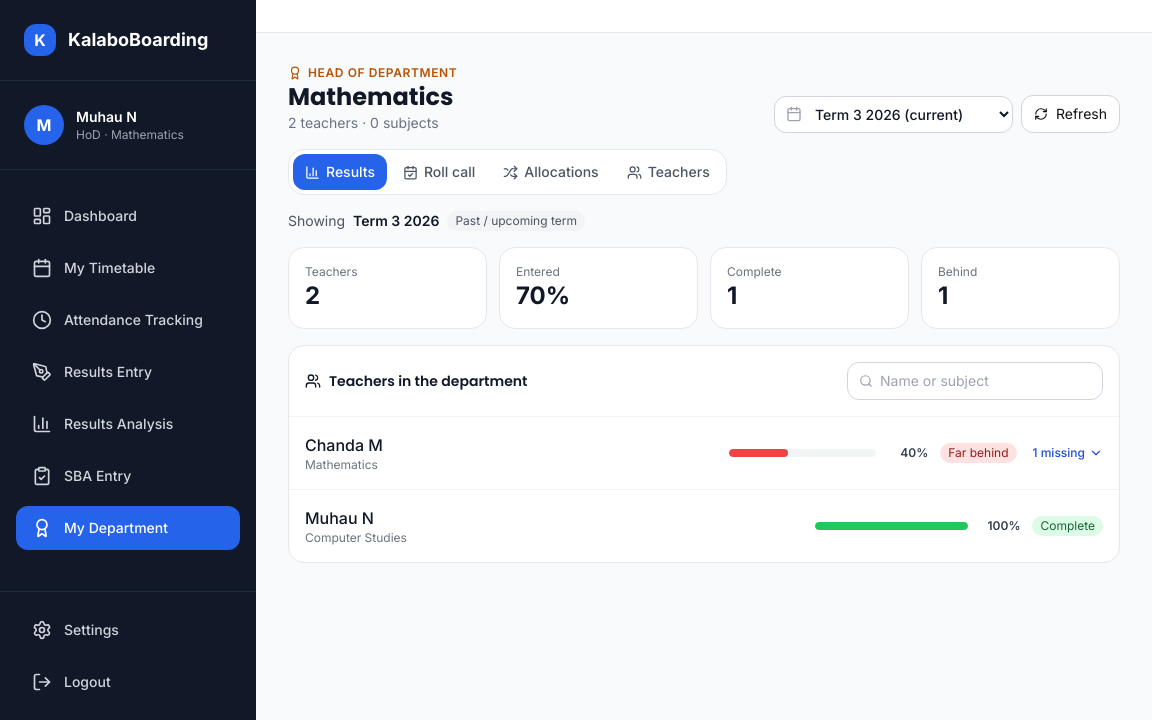
Test: My Department (HoD page) › lists the department's teachers with their results entry progress
Expected: the heading "Mathematics" is shown, [288,81,457,113]
Expected: the number of list items is 2, [305,435,1103,472]; [289,489,1119,562]
Click the button "1 missing" at (1068, 453), box [1032,445,1103,461]
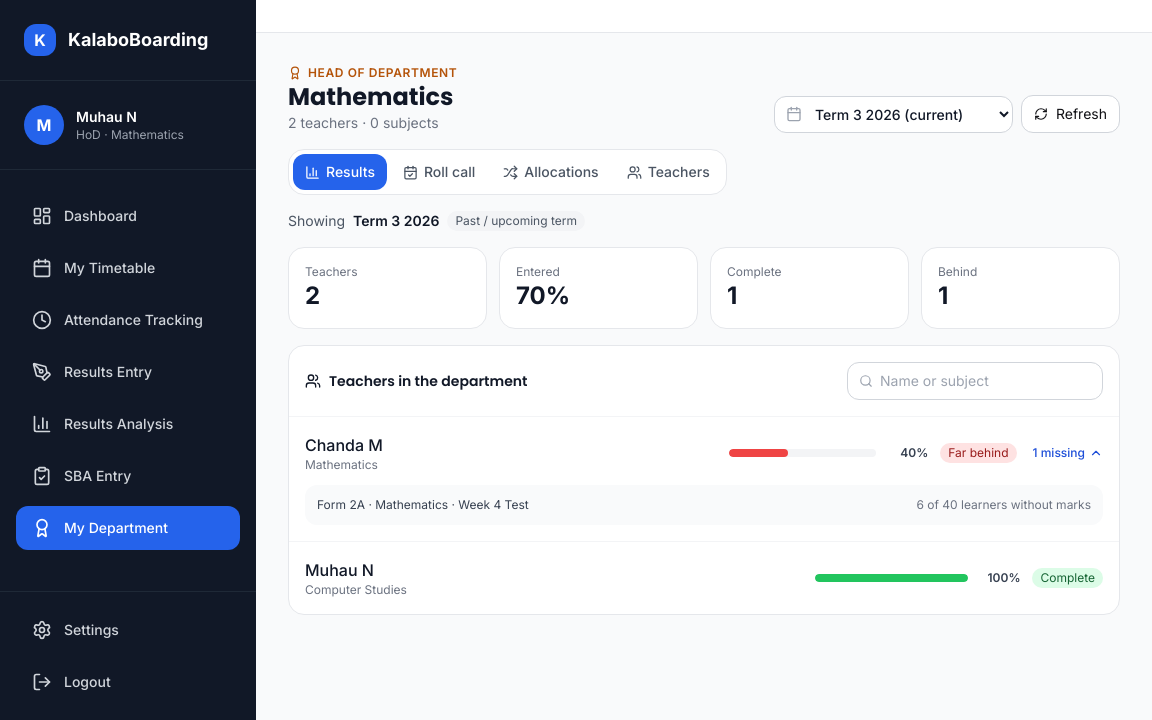
Result: the text "Form 2A · Mathematics · Week 4 Test" is shown at [317,497,529,513]
